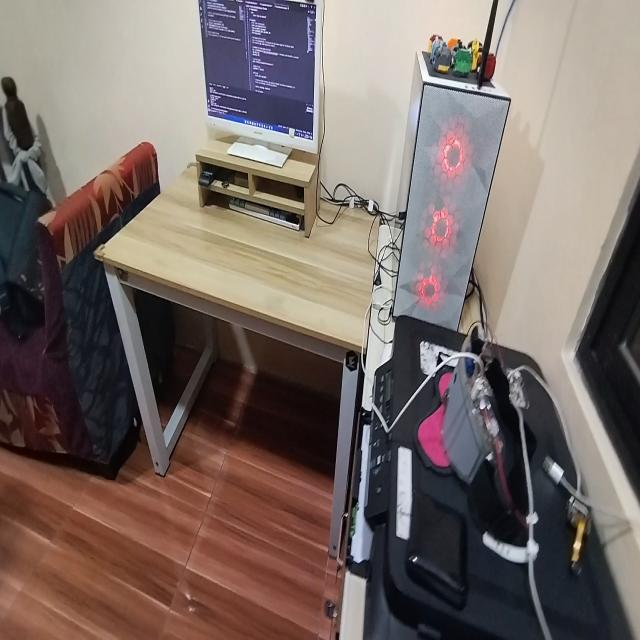table: (107, 153, 376, 553)
